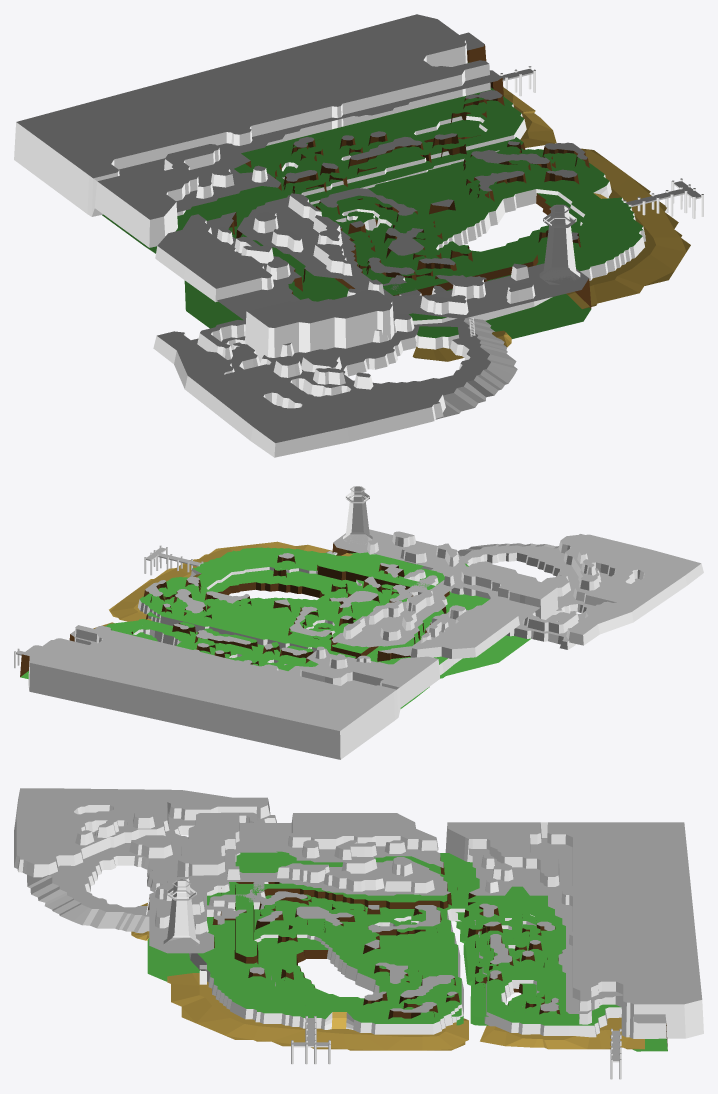
The model's file is new_old_mapc.glb.
3 views of the same model, one above another, from view 1: azimuth 30°, elevation 25°; view 2: azimuth 150°, elevation 25°; view 3: azimuth 270°, elevation 25° (orthographic). The views are drawn at different scales.
Visible parts, largest first — view 1: expanded_main, main001, Plane, lighthouse, docks; view 2: expanded_main, main001, Plane, lighthouse, docks; view 3: expanded_main, main001, Plane, lighthouse, docks.
Boxes of the visible parts, left/top/right/bottom form: expanded_main: left=14, top=14, right=690, bottom=361; main001: left=153, top=275, right=517, bottom=457; Plane: left=232, top=93, right=583, bottom=295; lighthouse: left=539, top=204, right=580, bottom=284; docks: left=500, top=66, right=703, bottom=218; expanded_main: left=20, top=529, right=558, bottom=759; main001: left=404, top=534, right=703, bottom=649; Plane: left=119, top=561, right=449, bottom=670; lighthouse: left=343, top=486, right=372, bottom=544; docks: left=14, top=545, right=203, bottom=668; expanded_main: left=131, top=813, right=703, bottom=1051; main001: left=14, top=788, right=277, bottom=933; Plane: left=234, top=884, right=565, bottom=1025; lighthouse: left=163, top=879, right=199, bottom=944; docks: left=291, top=1016, right=621, bottom=1079.
Bounding box in the file's own units: 170 × 32.1 × 192.
